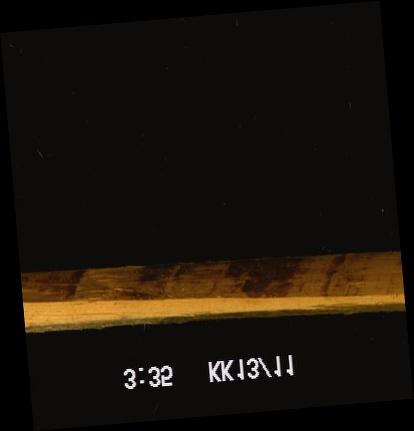wave: (23, 266, 402, 318)
